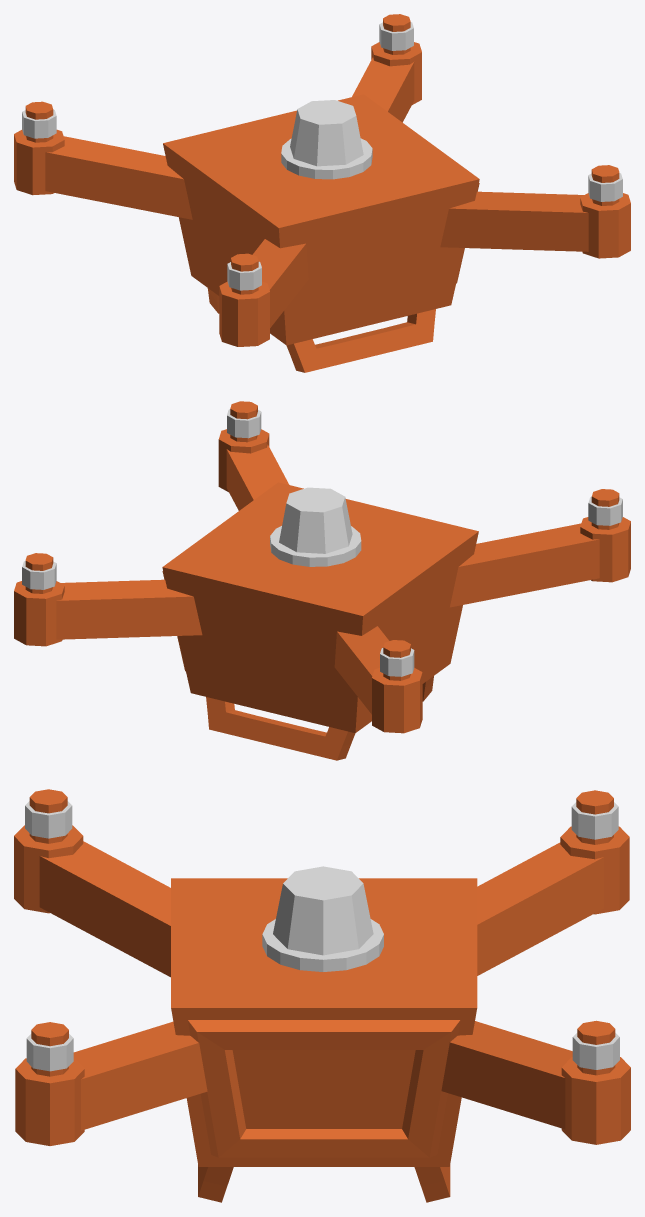
Rendered from drone drone fixed fixed fixed .fbx.
3 views of the same model, one above another, from view 1: azimuth 30°, elevation 25°; view 2: azimuth 150°, elevation 25°; view 3: azimuth 270°, elevation 25° (orthographic). The views are drawn at different scales.
Parts seen in each view (by area): view 1: Cylinder.003; view 2: Cylinder.003; view 3: Cylinder.003.
Boxes of the visible parts, x1,y1,x2,y2 form: Cylinder.003: (14, 14, 630, 372); Cylinder.003: (14, 401, 630, 760); Cylinder.003: (14, 789, 630, 1202).
Bounding box in the file's own units: 379 × 190 × 377.
